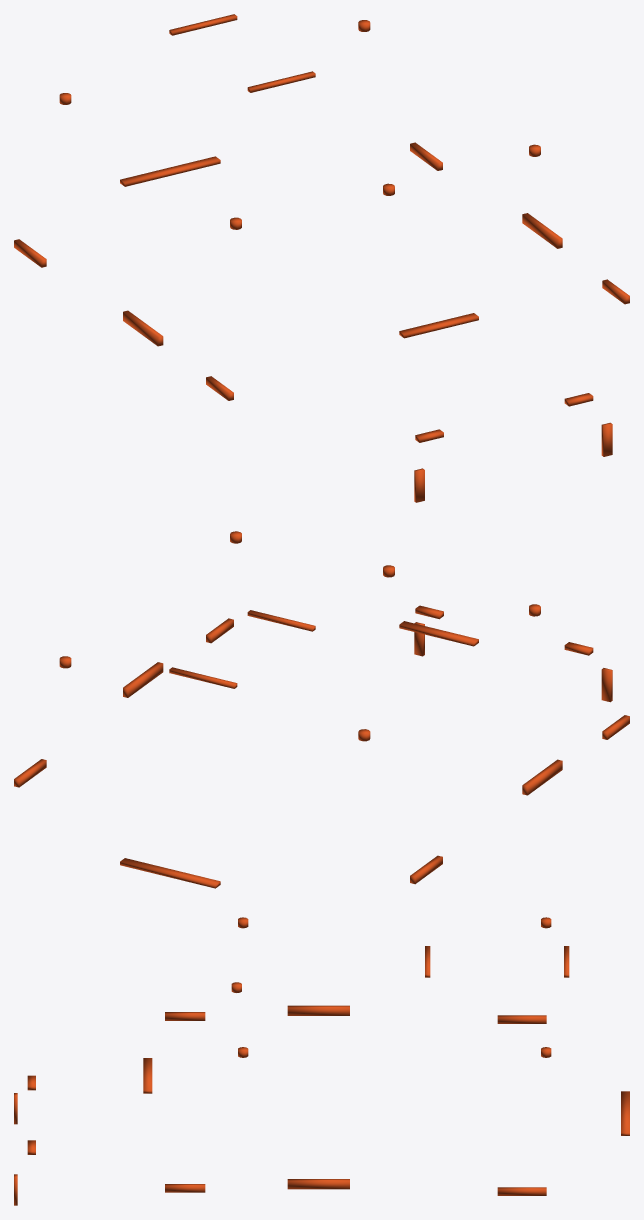
File: harvester_emissive.obj
The picture shows the model from 3 angles, top to bottom: view 1: azimuth 30°, elevation 25°; view 2: azimuth 150°, elevation 25°; view 3: azimuth 270°, elevation 25°; orthographic projection. The views are drawn at different scales.
Parts seen in each view (by area): view 1: harvester_emissive; view 2: harvester_emissive; view 3: harvester_emissive.
Boxes of the visible parts, box(x1,y1,x2,y2) form: harvester_emissive: box(14, 14, 629, 502); harvester_emissive: box(14, 531, 629, 888); harvester_emissive: box(14, 917, 629, 1205).
Bounding box in the file's own units: 4.66 × 2.51 × 6.91.
